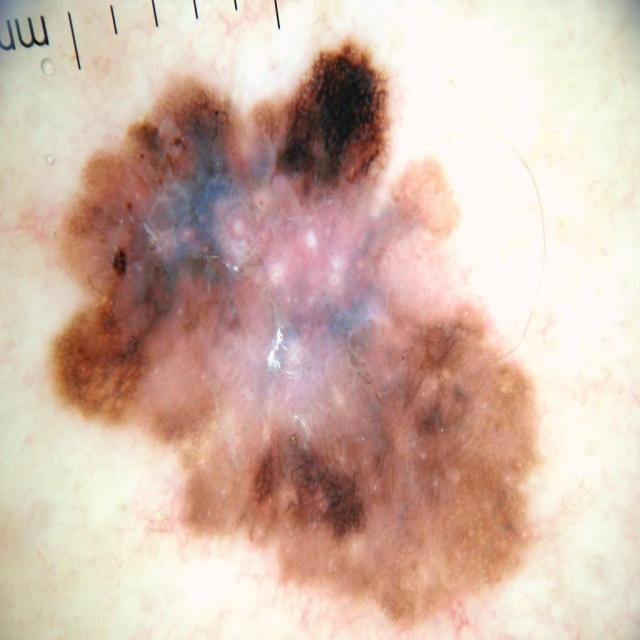Skin-Cancer Melanoma: (39, 58, 596, 640)
